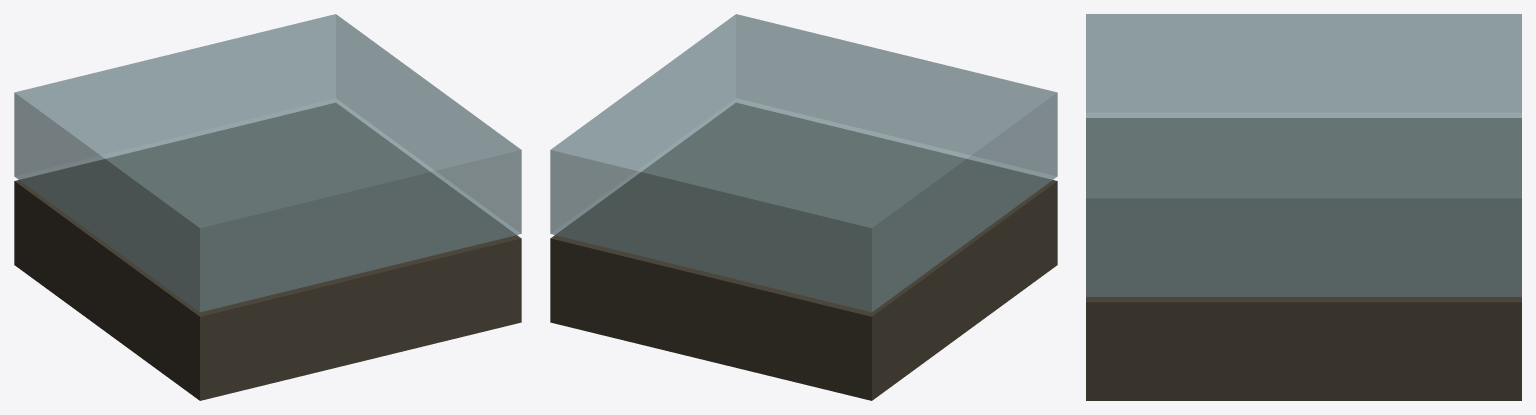
File: Top water bottom dirt.fbx
3 renders of one model, left to right at view 1: azimuth 30°, elevation 25°; view 2: azimuth 150°, elevation 25°; view 3: azimuth 270°, elevation 25°, orthographic. The views are drawn at different scales.
Parts seen in each view (by area): view 1: polySurface1170; view 2: polySurface1170; view 3: polySurface1170.
Boxes of the visible parts, <box> form: polySurface1170: <box>14,14,521,400</box>; polySurface1170: <box>550,14,1057,400</box>; polySurface1170: <box>1086,14,1521,400</box>.
Size of the model in its own units: 56.97 by 29.24 by 56.97.
